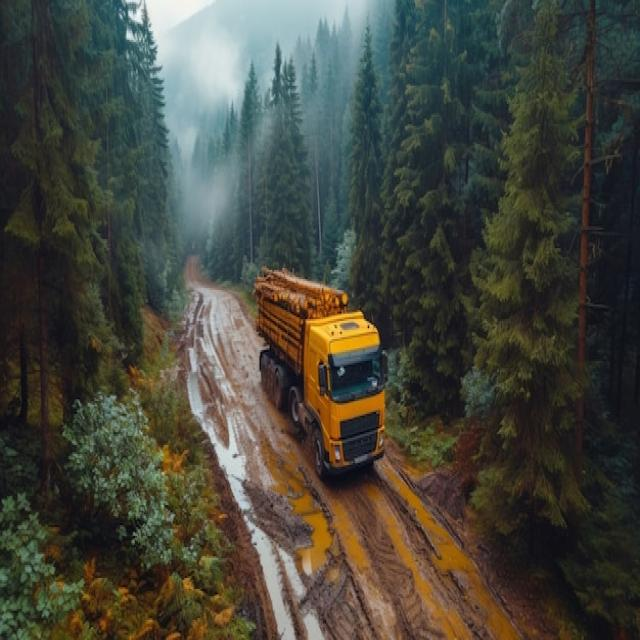Truck: (254, 261, 388, 479)
